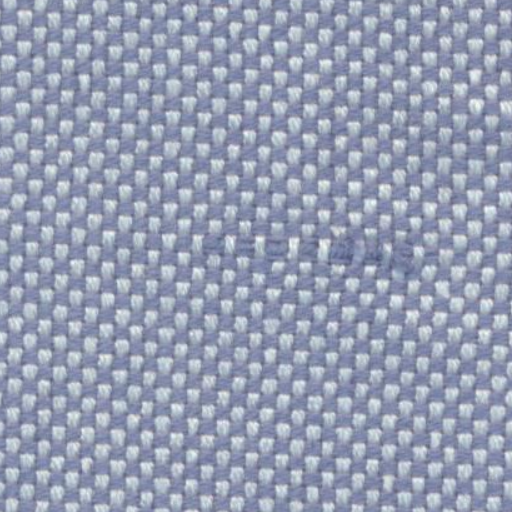TuoSha: (194, 214, 436, 296)
